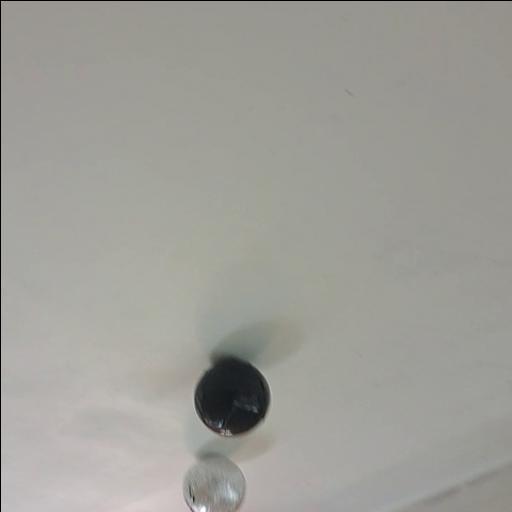alive: (180, 454, 248, 512)
dead: (191, 356, 271, 438)
